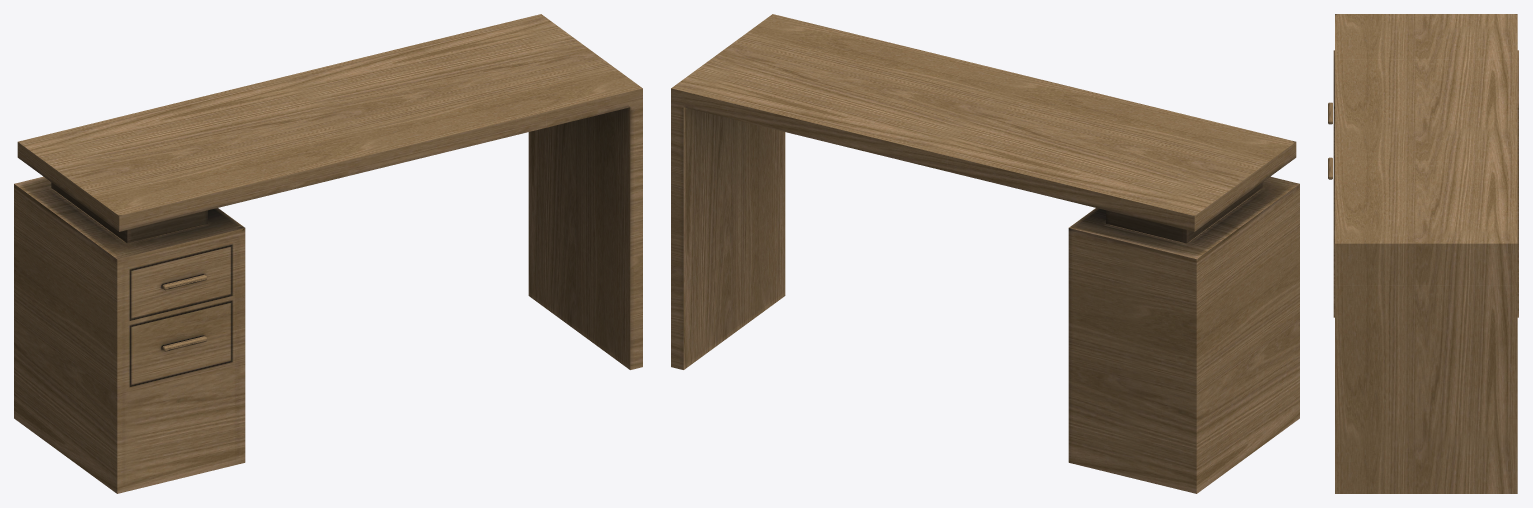
The model's file is MilesDeskWithFile4.obj.
The picture shows the model from 3 angles, left to right: view 1: azimuth 30°, elevation 25°; view 2: azimuth 150°, elevation 25°; view 3: azimuth 270°, elevation 25°; orthographic projection. The views are drawn at different scales.
Visible parts, largest first — view 1: MilesDeskWithFile; view 2: MilesDeskWithFile; view 3: MilesDeskWithFile, MilesDeskWithFileH.
Boxes of the visible parts, x1,y1,x2,y2 form: MilesDeskWithFile: (14,14,642,493); MilesDeskWithFile: (671,14,1299,493); MilesDeskWithFile: (1333,14,1518,493); MilesDeskWithFileH: (1328,102,1332,179).
Bounding box in the file's own units: 75.98 × 38.45 × 26.54.
